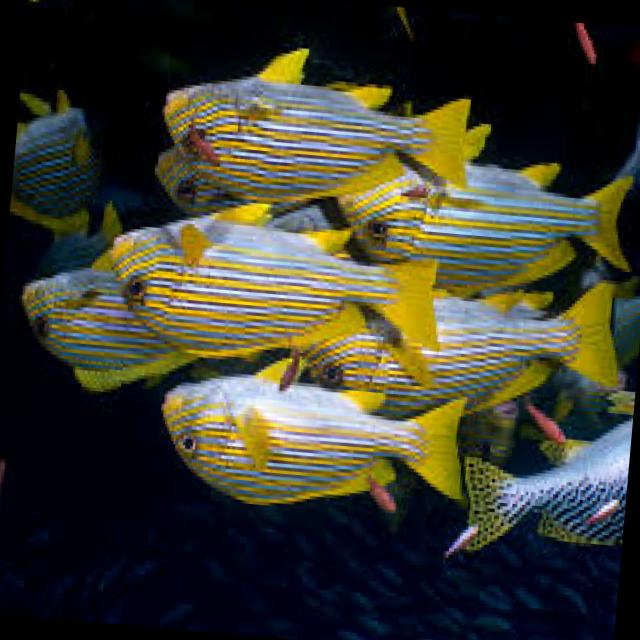RibbonedSweetlips: (102, 188, 451, 377), (298, 254, 632, 437), (155, 34, 477, 219), (152, 347, 472, 521), (328, 144, 638, 308), (11, 260, 207, 402), (7, 85, 103, 234)
